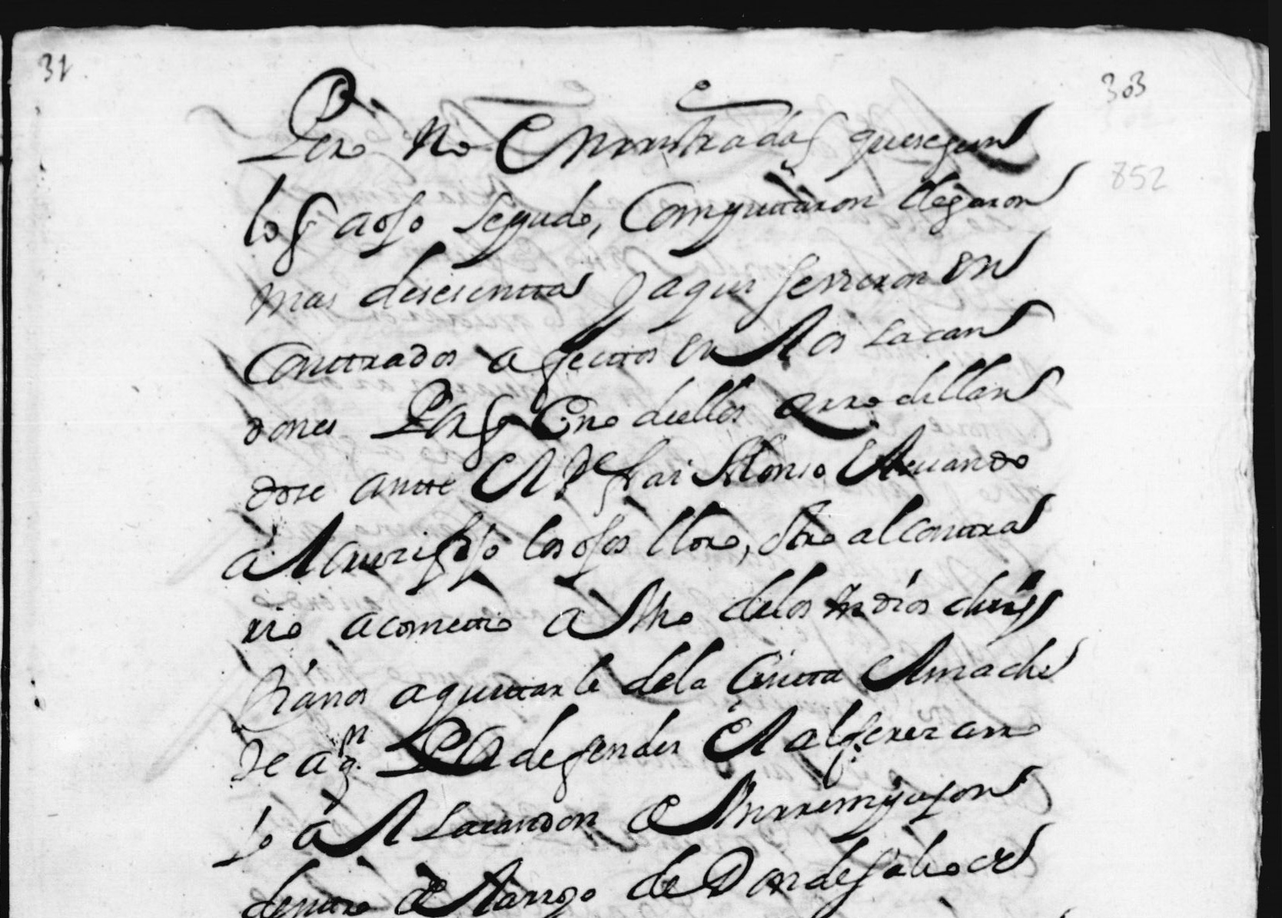lacandon: (411, 800, 599, 841)
